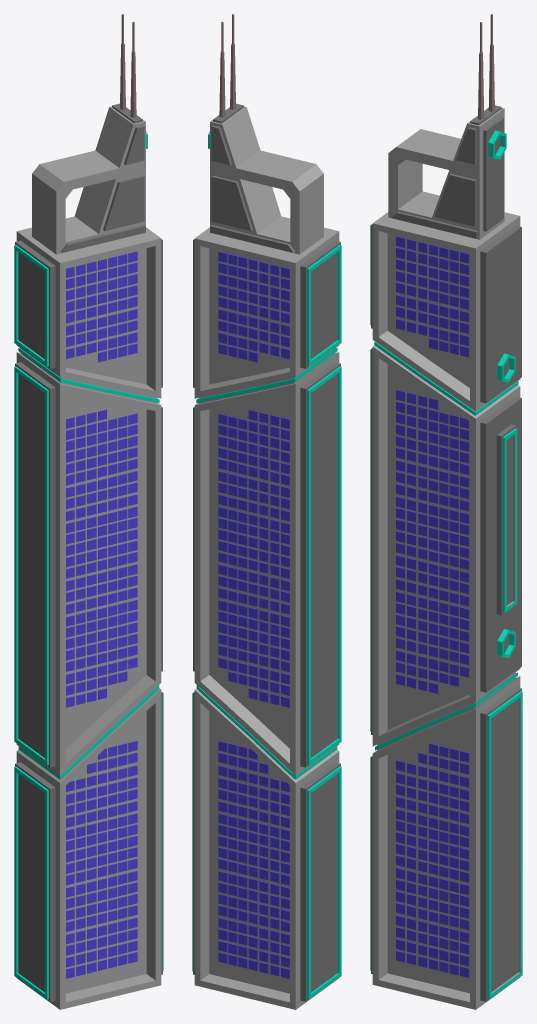
File: Building3.fbx
3 renders of one model, left to right at view 1: azimuth 30°, elevation 25°; view 2: azimuth 150°, elevation 25°; view 3: azimuth 330°, elevation 25°, orthographic.
Visible parts, largest first — view 1: Building3, Windows1; view 2: Building3, Windows1; view 3: Building3, Windows1.
Boxes of the visible parts, <box> form: Building3: <box>14,14,163,1009</box>; Windows1: <box>66,251,137,978</box>; Building3: <box>192,14,341,1009</box>; Windows1: <box>218,251,289,978</box>; Building3: <box>370,14,522,1009</box>; Windows1: <box>396,236,469,977</box>.
Bounding box in the file's own units: 6554 × 49155 × 4074.
